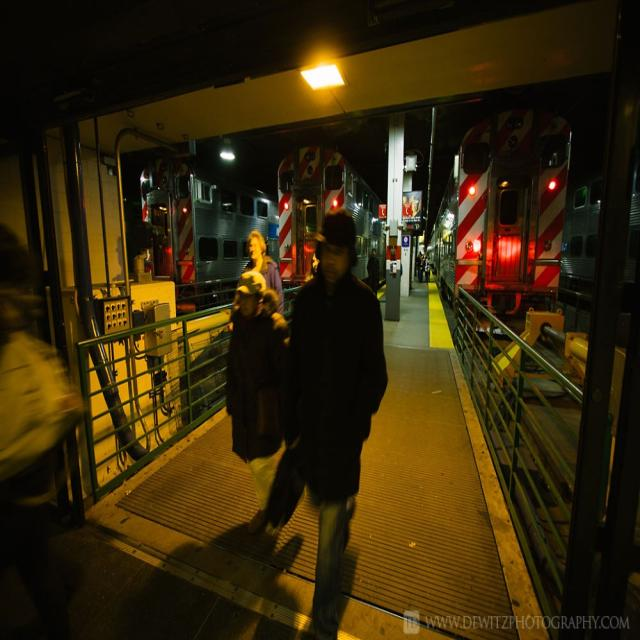body: (270, 207, 390, 640), (92, 492, 368, 639), (0, 218, 92, 638), (224, 276, 287, 538), (233, 230, 286, 317), (366, 246, 381, 296), (416, 247, 434, 286), (304, 250, 322, 286)
